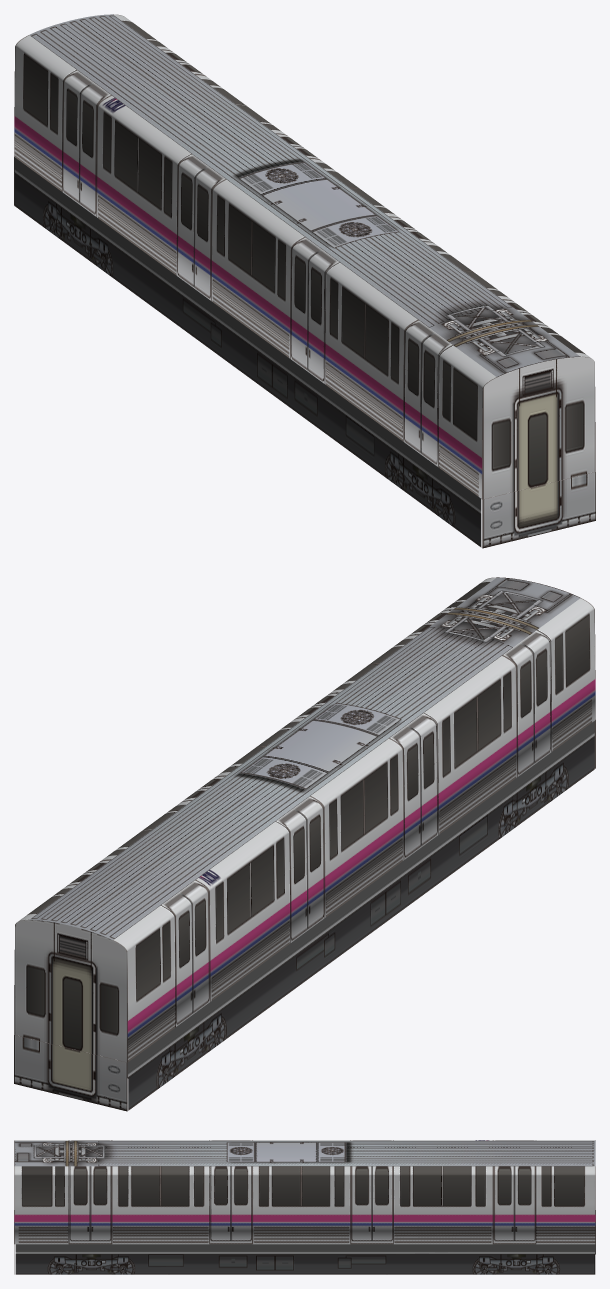
File: car2.glb
3 views of the same model, one above another, from view 1: azimuth 30°, elevation 25°; view 2: azimuth 150°, elevation 25°; view 3: azimuth 270°, elevation 25° (orthographic). The views are drawn at different scales.
Visible parts, largest first — view 1: keio-7000-car2; view 2: keio-7000-car2; view 3: keio-7000-car2.
Part boxes in pixels (<box>): keio-7000-car2: <box>14,14,595,548</box>; keio-7000-car2: <box>14,577,595,1111</box>; keio-7000-car2: <box>14,1140,595,1274</box>.
Bounding box in the file's own units: 2.8 × 4.05 × 20.03.
Materials: 9 (8 with a texture image).
